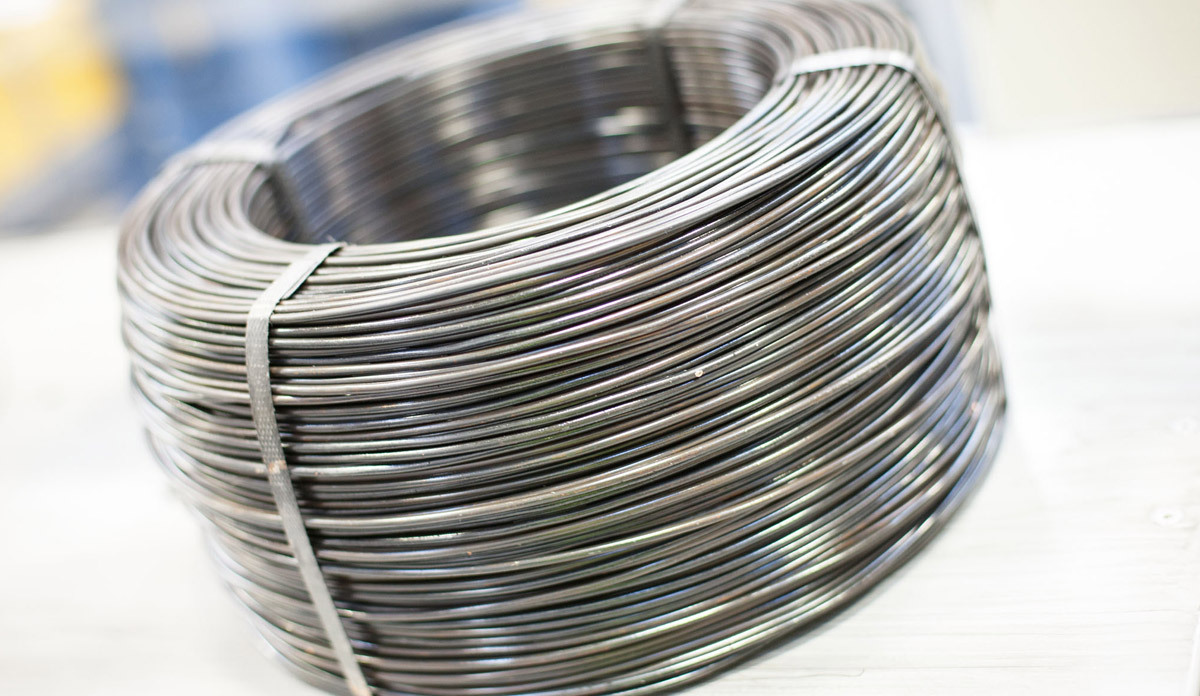Nonrec_Tangler: (81, 7, 1102, 663)
